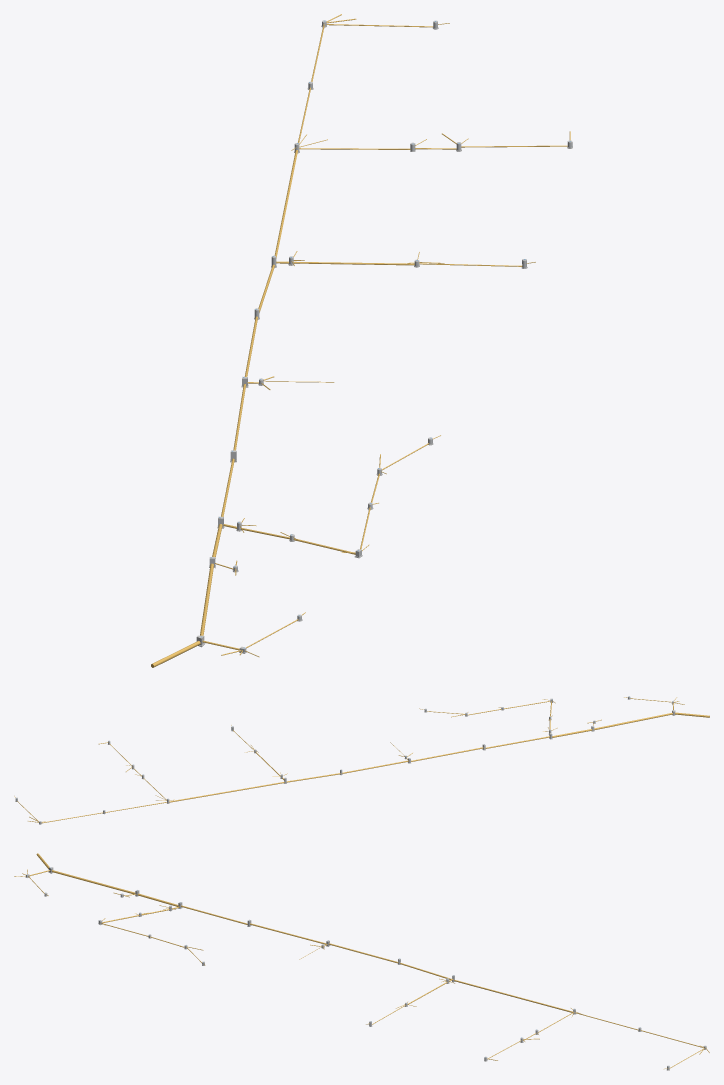
Rendered from 500125-CSSP001-780-XX-MD-BM-000821.glb.
3 renders of one model, top to bottom at view 1: azimuth 30°, elevation 25°; view 2: azimuth 150°, elevation 25°; view 3: azimuth 270°, elevation 25°, orthographic. The views are drawn at different scales.
Parts seen in each view (by area): view 1: no part large enough to name; view 2: 500125-CSSP001-780-XX-MD-BM-000821#TUB016; view 3: no part large enough to name.
Boxes of the visible parts, bbox=[...] form: 500125-CSSP001-780-XX-MD-BM-000821#TUB016: bbox=[169, 782, 284, 802].
Bounding box in the file's own units: 409 × 19.71 × 510.
